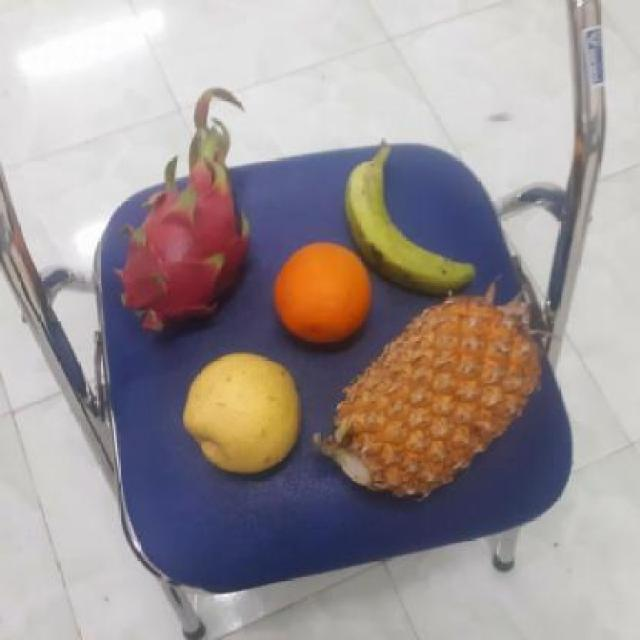dragon fruit: (122, 173, 256, 338)
oren: (272, 243, 376, 348)
pear: (183, 354, 309, 474)
pineapple: (325, 298, 546, 496)
